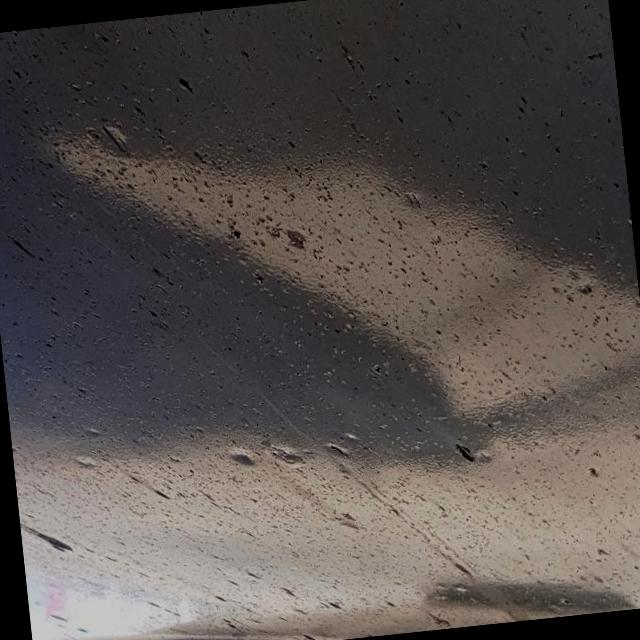dent: (267, 438, 306, 480), (222, 438, 258, 474)
